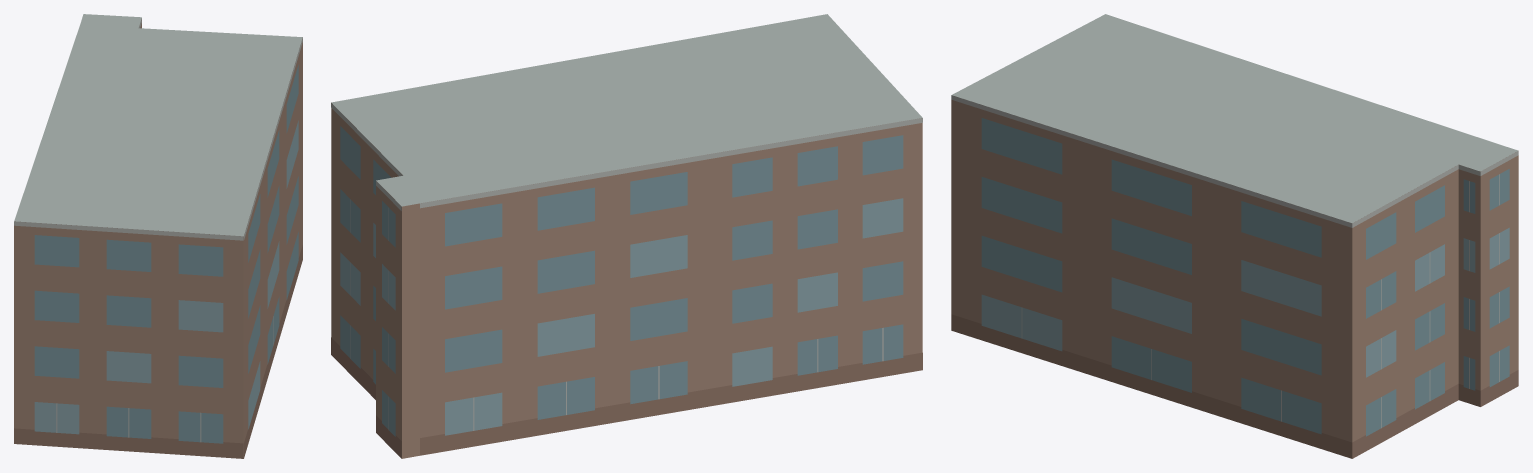
File: survey-upis-32962415.glb
The picture shows the model from 3 angles, left to right: view 1: azimuth 30°, elevation 25°; view 2: azimuth 150°, elevation 25°; view 3: azimuth 270°, elevation 25°; orthographic projection. The views are drawn at different scales.
Visible parts, largest first — view 1: survey-upis-32962415.tmp; view 2: survey-upis-32962415.tmp; view 3: survey-upis-32962415.tmp.
Part boxes in pixels (x1,y1,x2,y2): survey-upis-32962415.tmp: (14,14,302,458); survey-upis-32962415.tmp: (331,14,922,458); survey-upis-32962415.tmp: (951,14,1518,458).
Bounding box in the file's own units: 23.64 × 12.4 × 27.06.
